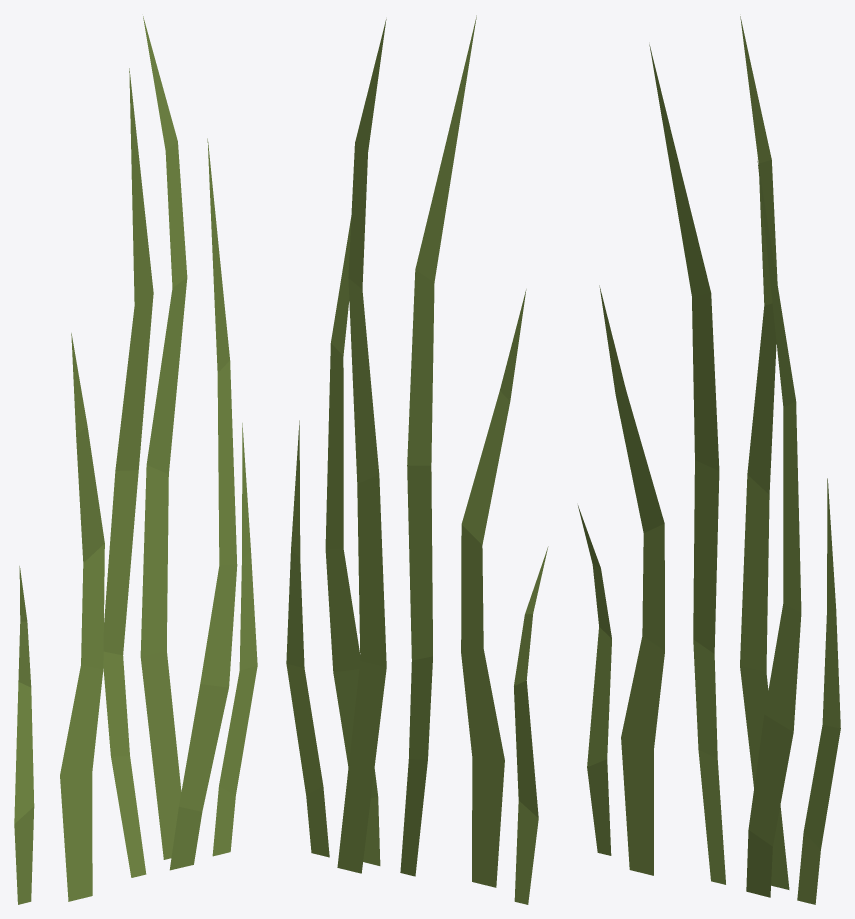
The model's file is sea-grass_01.fbx.
3 views of the same model, side by side, from view 1: azimuth 30°, elevation 25°; view 2: azimuth 150°, elevation 25°; view 3: azimuth 330°, elevation 25° (orthographic).
Parts seen in each view (by area): view 1: sea-grass_01; view 2: sea-grass_01; view 3: sea-grass_01.
Boxes of the visible parts, left/top/right/bottom form: sea-grass_01: left=14, top=16, right=257, bottom=904; sea-grass_01: left=286, top=15, right=548, bottom=904; sea-grass_01: left=578, top=16, right=840, bottom=904.
Size of the model in its own units: 78.03 by 256 by 21.67.
